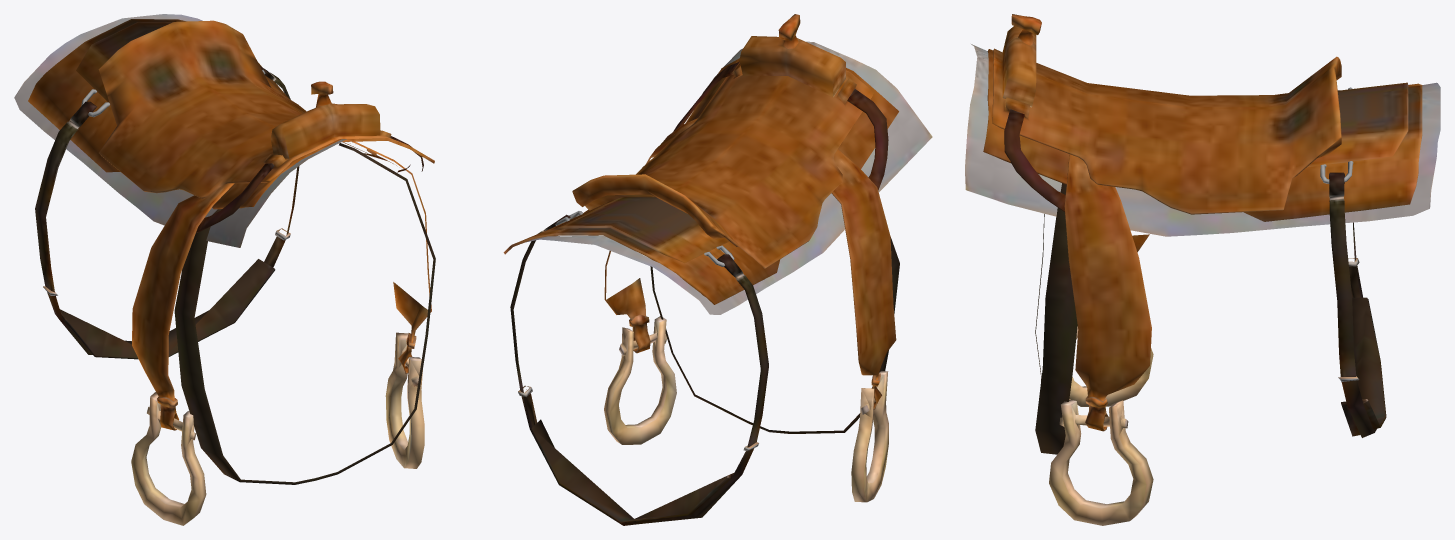
The model's file is saddle.glb.
3 views of the same model, side by side, from view 1: azimuth 30°, elevation 25°; view 2: azimuth 150°, elevation 25°; view 3: azimuth 270°, elevation 25° (orthographic). The views are drawn at different scales.
Visible parts, largest first — view 1: saddle; view 2: saddle; view 3: saddle.
Part boxes in pixels (<box>): saddle: <box>14,14,435,525</box>; saddle: <box>503,14,932,525</box>; saddle: <box>965,14,1440,525</box>.
Size of the model in its own units: 0.6018 by 0.938 by 0.908.
1 material, 1 textured.
